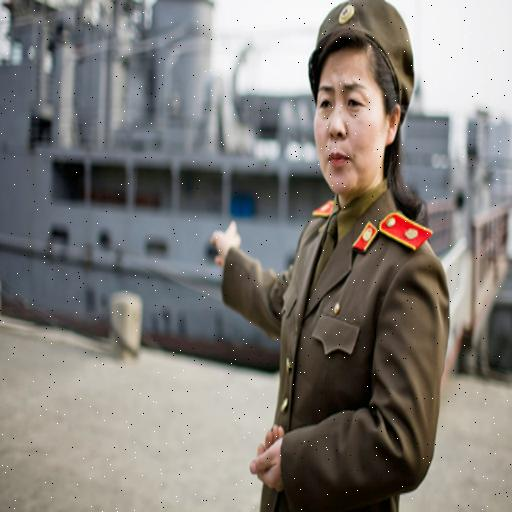north army: (229, 3, 512, 512)
